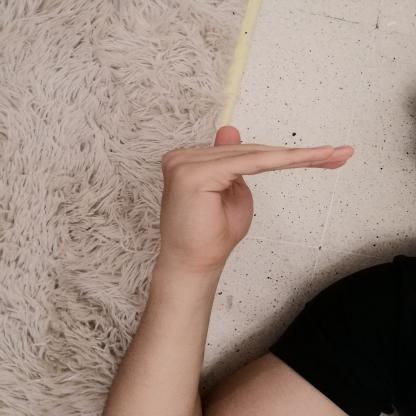KHAA: (144, 119, 372, 263)
